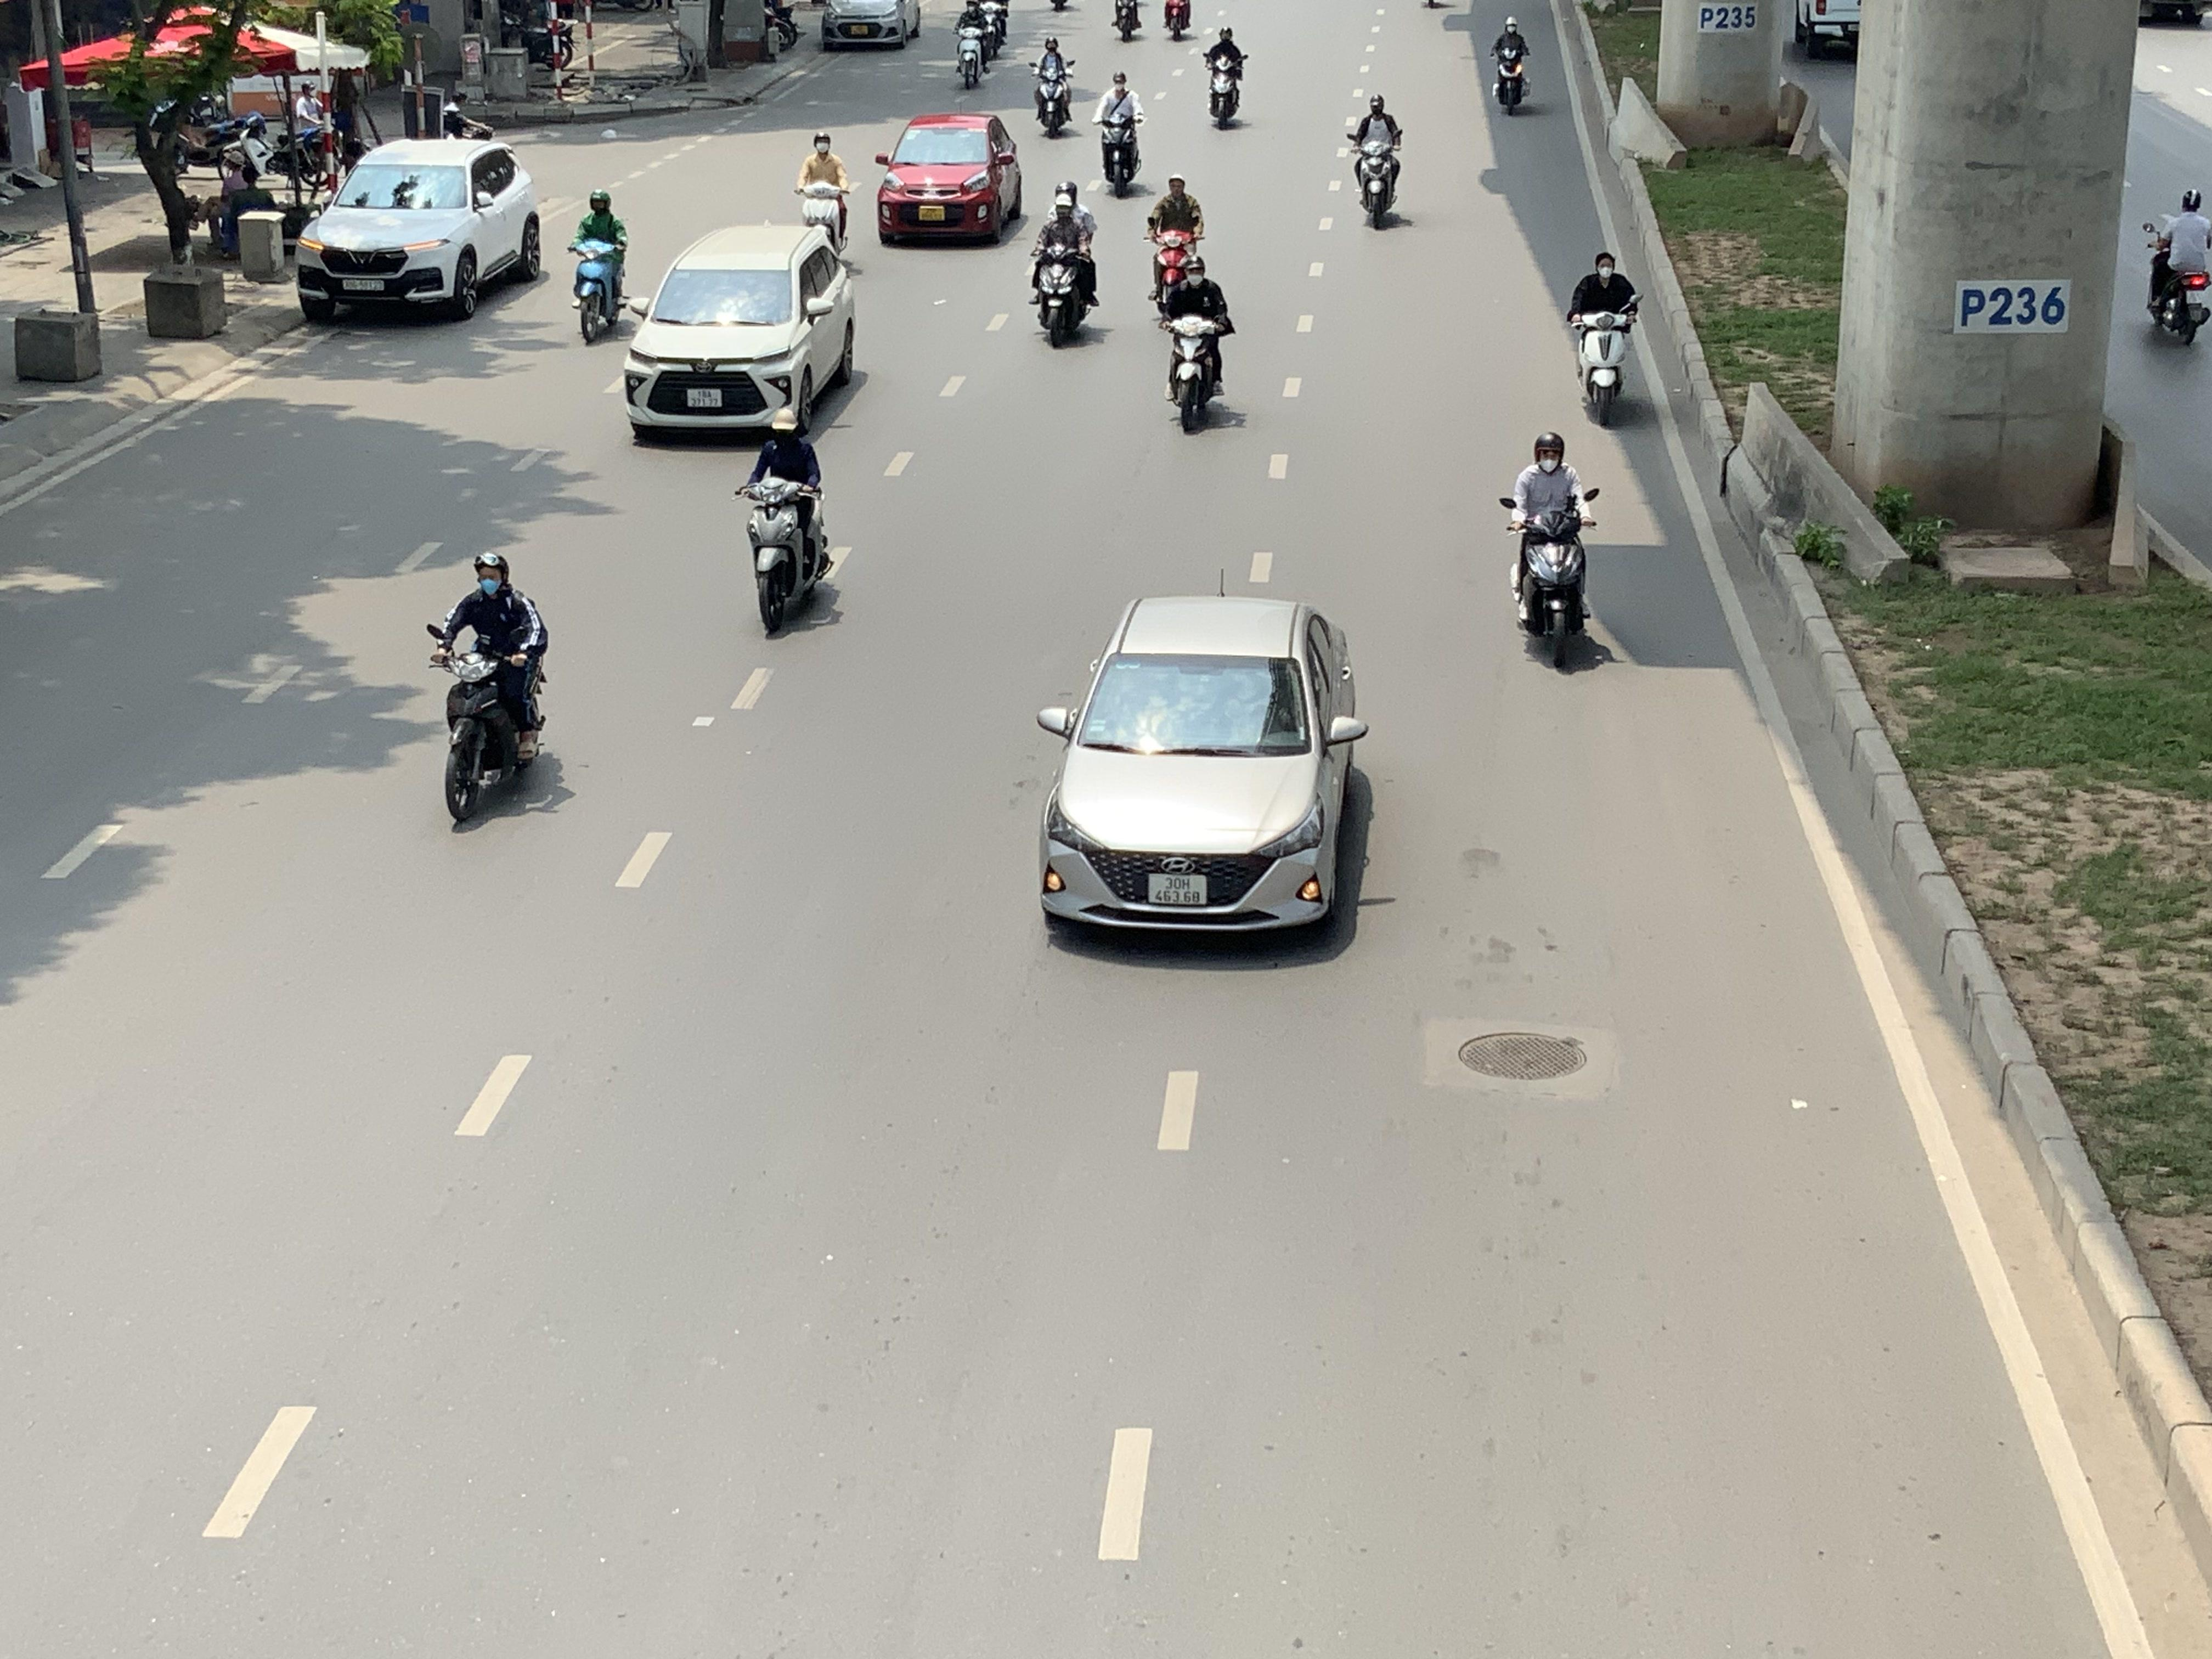BSD: (343, 279, 385, 291)
BSV: (1148, 873, 1207, 906), (686, 389, 723, 408), (918, 204, 946, 221), (2189, 288, 2210, 303)
car: (1036, 594, 1376, 946), (622, 223, 860, 443), (294, 136, 545, 324), (874, 113, 1024, 247), (820, 0, 921, 51)
motorbike: (430, 549, 550, 831), (1503, 430, 1597, 673), (740, 410, 836, 638), (1158, 253, 1235, 436), (1566, 247, 1639, 429), (1029, 183, 1099, 349), (2146, 186, 2212, 345), (570, 188, 632, 345), (1348, 92, 1406, 230), (1146, 174, 1205, 305), (794, 131, 853, 253), (1096, 71, 1146, 197), (1031, 33, 1076, 138), (1204, 23, 1247, 129), (1491, 14, 1531, 115), (953, 2, 991, 89), (759, 0, 801, 56), (1160, 0, 1195, 40), (1111, 0, 1144, 42)
